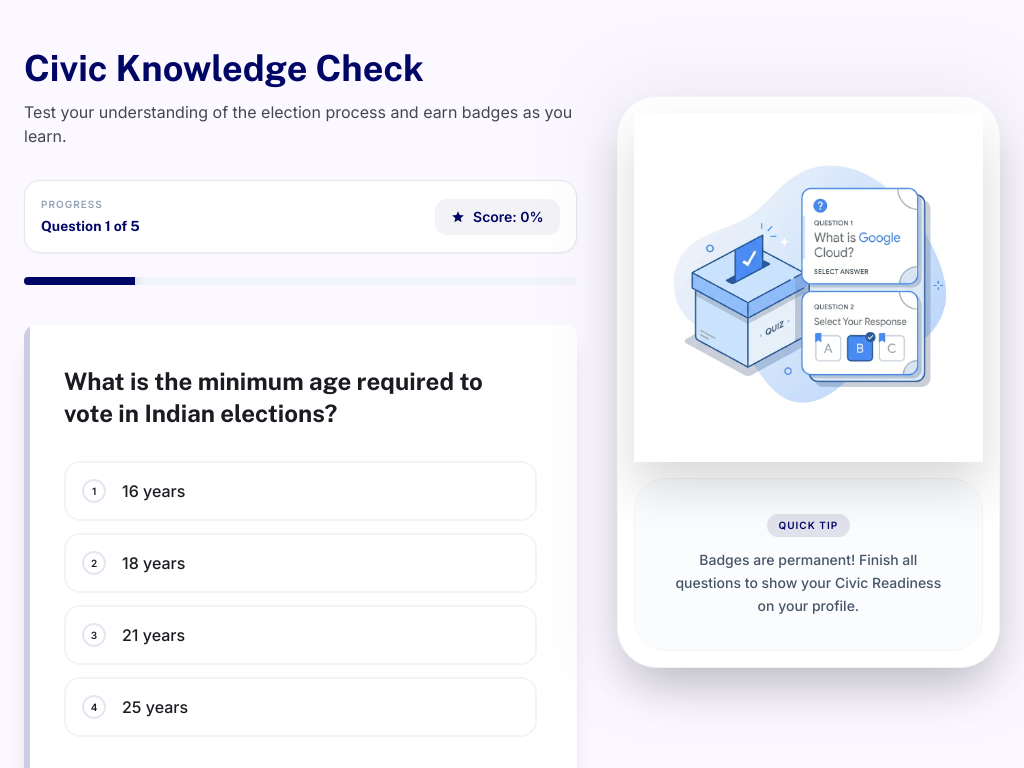
Scenario: Quiz Page › completes quiz and shows results
Click the text "18 years" at [154, 563], box [122,551,185,575]
Wait 5000 ms
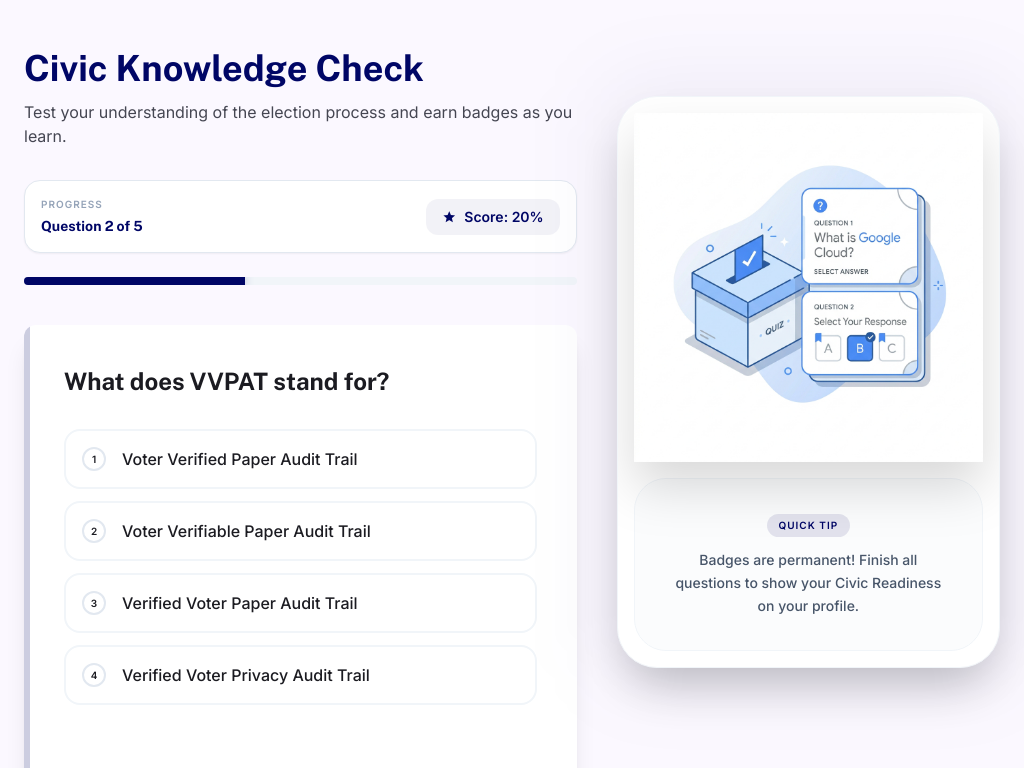
Click the text "Voter Verifiable Paper Audit Trail" at [246, 531], box [122,519,371,543]
Wait 5000 ms
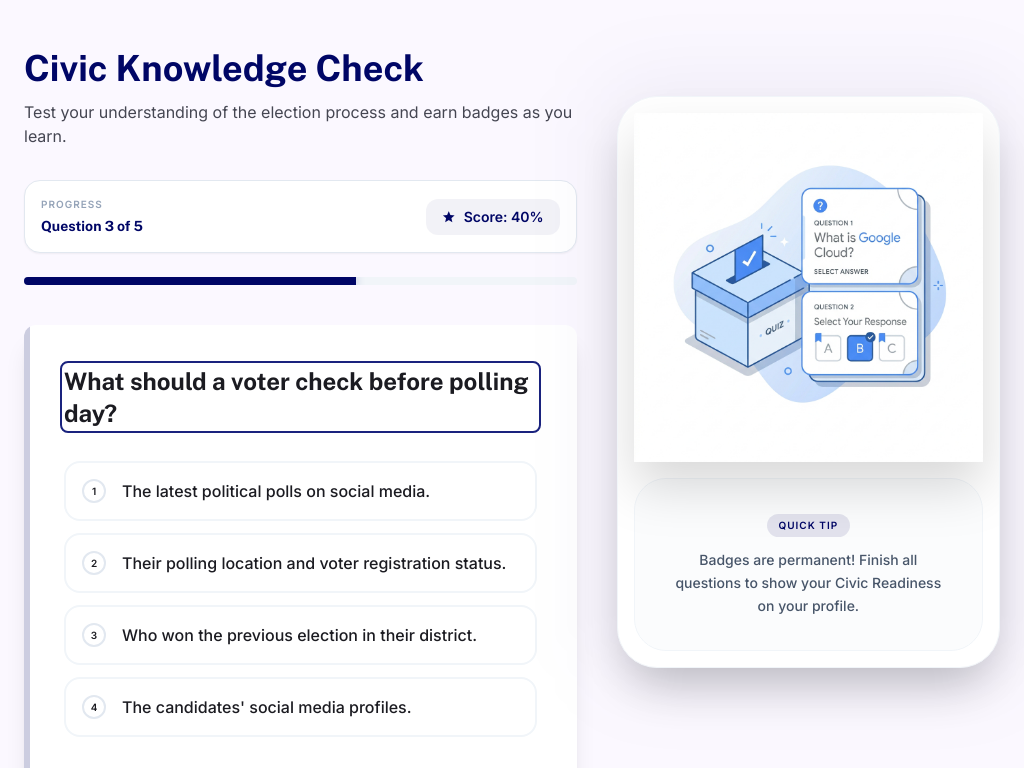
Click the text "Their polling location and voter registration status." at [314, 563], box [122,551,506,575]
Wait 5000 ms
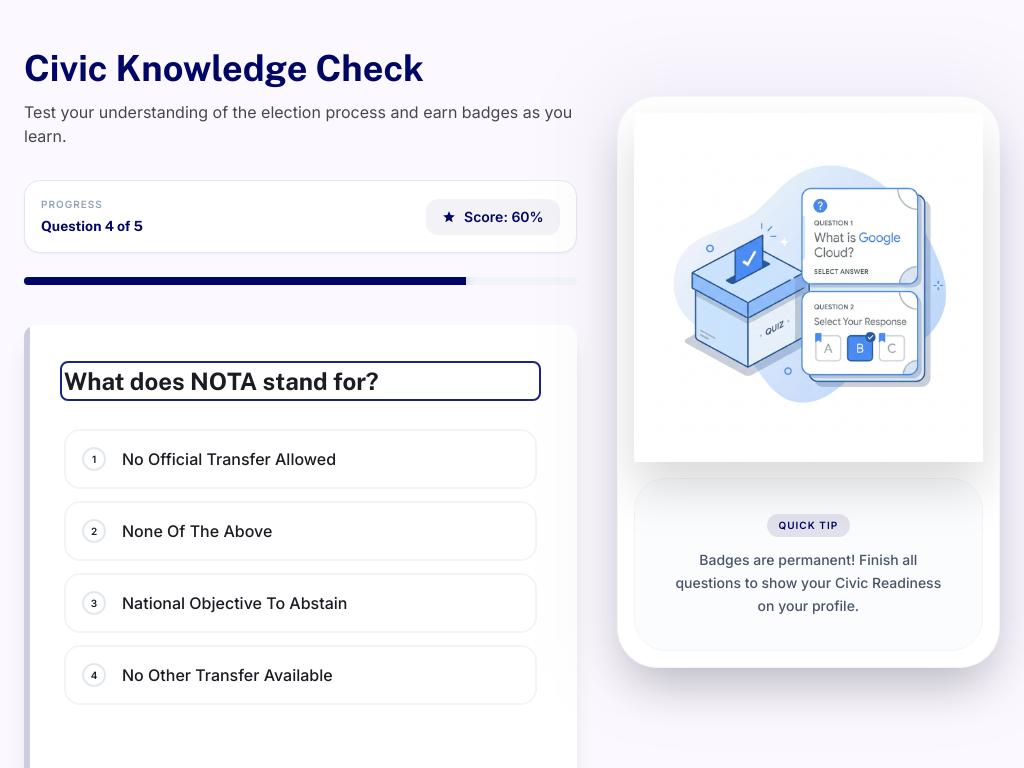
Click the text "None Of The Above" at [197, 531], box [122,519,272,543]
Wait 5000 ms
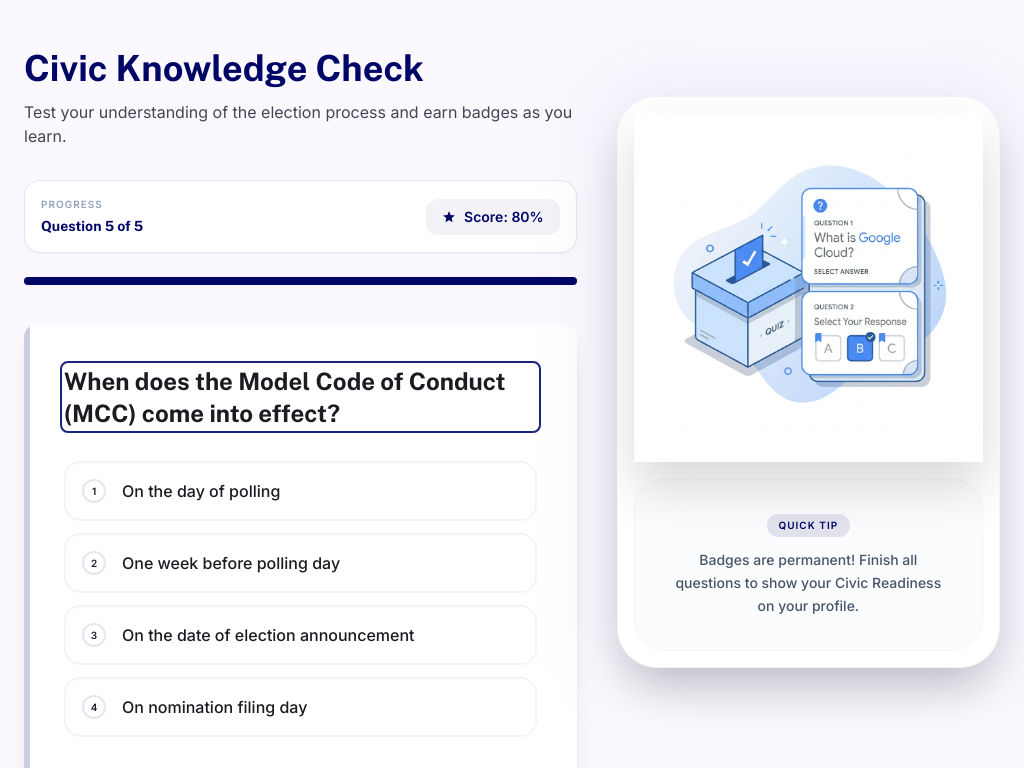
Click the text "On the date of election announcement" at [268, 635], box [122,623,414,647]
Wait 5000 ms
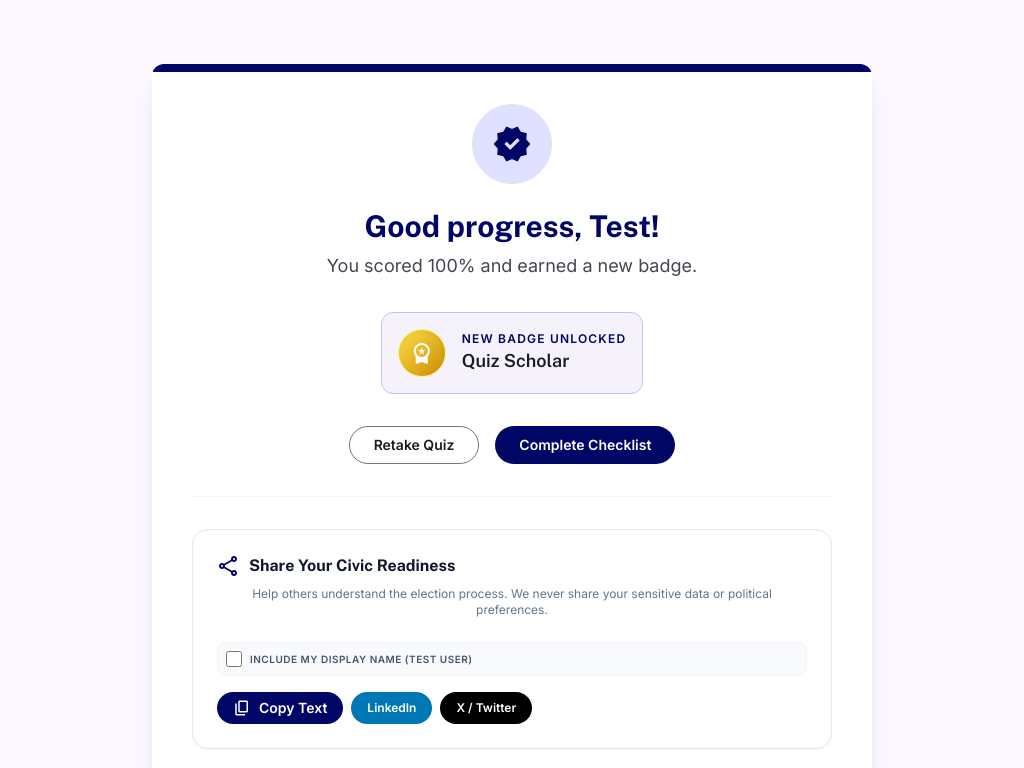
Expected: the heading "Good progress, Test!" is shown, [364,208,660,244]
Expected: the text "You scored 100% and earned a new badge." is shown, [327,255,697,276]
